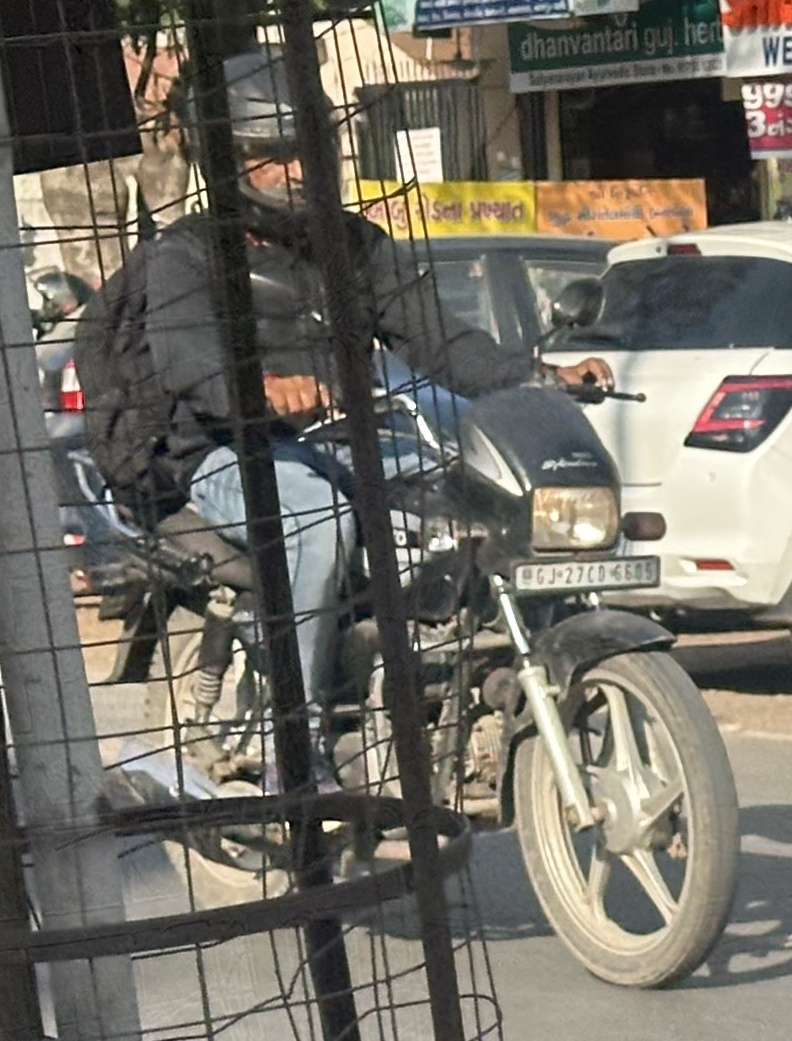BikeWithRider: (52, 31, 760, 1016)
Helmet: (154, 38, 365, 247)
